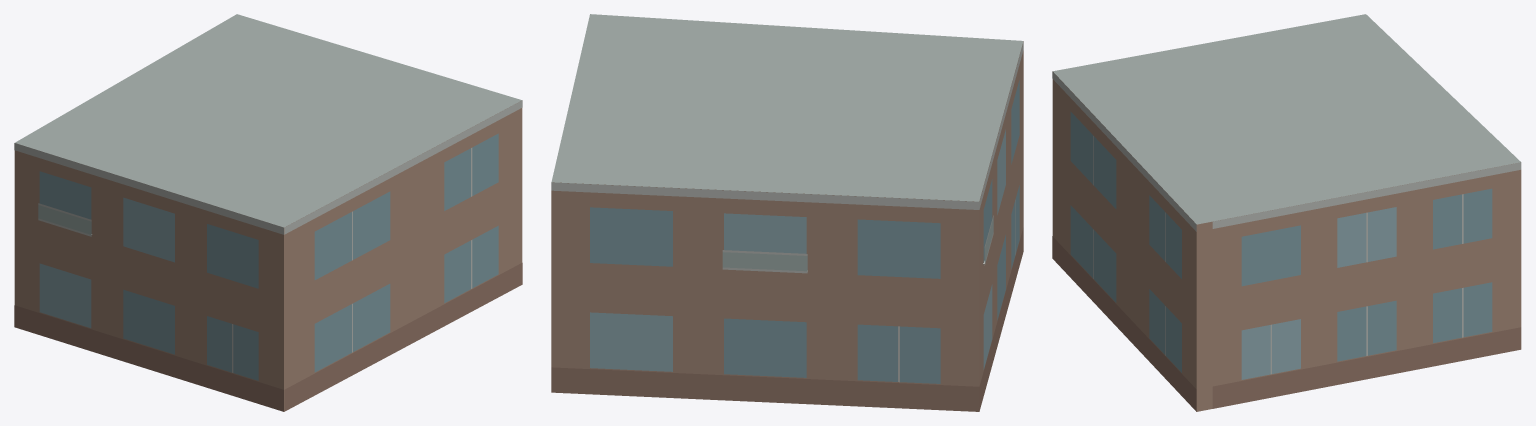
Rendered from survey-upis-32623121.glb.
3 views of the same model, side by side, from view 1: azimuth 30°, elevation 25°; view 2: azimuth 150°, elevation 25°; view 3: azimuth 270°, elevation 25° (orthographic). The views are drawn at different scales.
Parts seen in each view (by area): view 1: survey-upis-32623121.tmp; view 2: survey-upis-32623121.tmp; view 3: survey-upis-32623121.tmp.
Part boxes in pixels (x1=…): survey-upis-32623121.tmp: x1=14, y1=14, x2=522, y2=411; survey-upis-32623121.tmp: x1=551, y1=14, x2=1023, y2=411; survey-upis-32623121.tmp: x1=1052, y1=14, x2=1521, y2=411.
Size of the model in its own units: 14.71 by 6.1 by 13.84.
